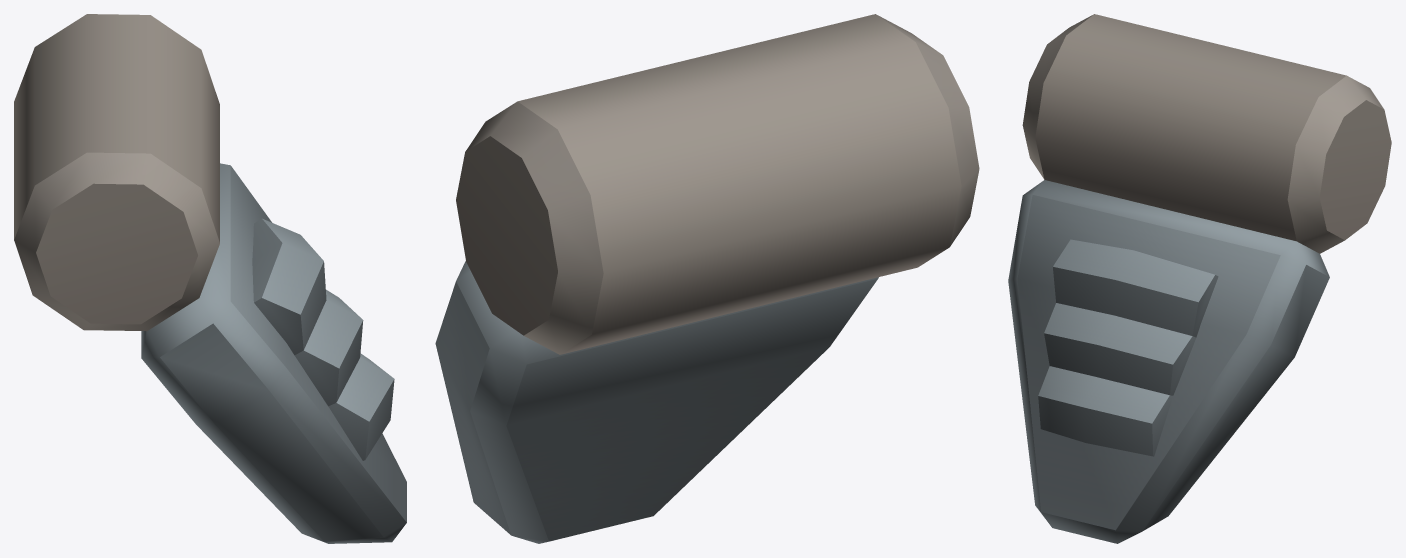
Rendered from turret_base_turret_footA.obj.
The picture shows the model from 3 angles, left to right: view 1: azimuth 30°, elevation 25°; view 2: azimuth 150°, elevation 25°; view 3: azimuth 270°, elevation 25°; orthographic projection. The views are drawn at different scales.
Parts seen in each view (by area): view 1: turret_footA; view 2: turret_footA; view 3: turret_footA.
Part boxes in pixels (x1=…): turret_footA: x1=14, y1=14, x2=406, y2=543; turret_footA: x1=435, y1=14, x2=979, y2=543; turret_footA: x1=1008, y1=14, x2=1391, y2=543.
Bounding box in the file's own units: 0.4186 × 0.4584 × 0.4047.
1 material, 1 textured.
